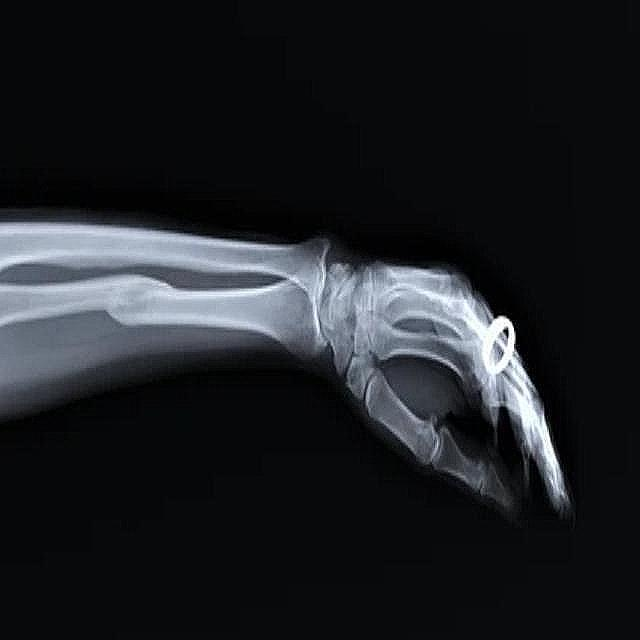bone: (91, 271, 180, 334)
